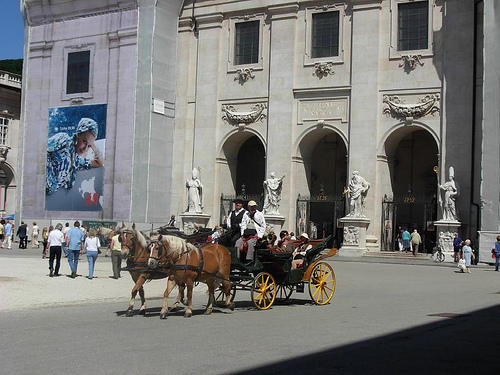horse: (147, 231, 234, 319), (116, 219, 171, 317)
